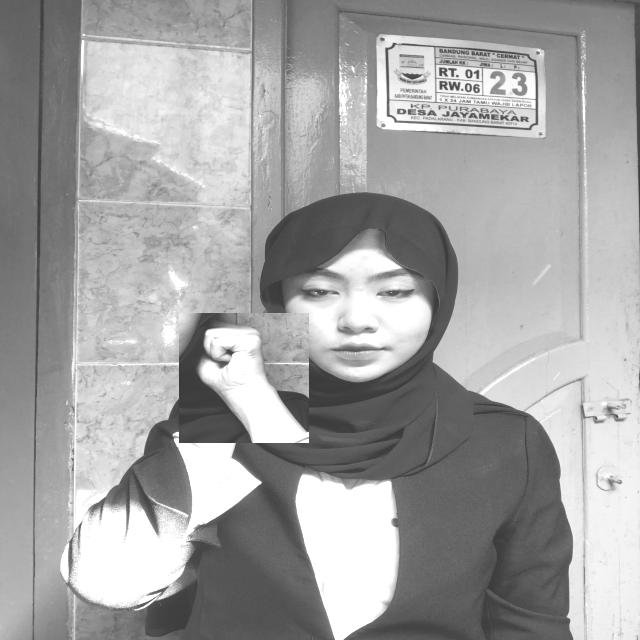ibu: (179, 313, 309, 443)
